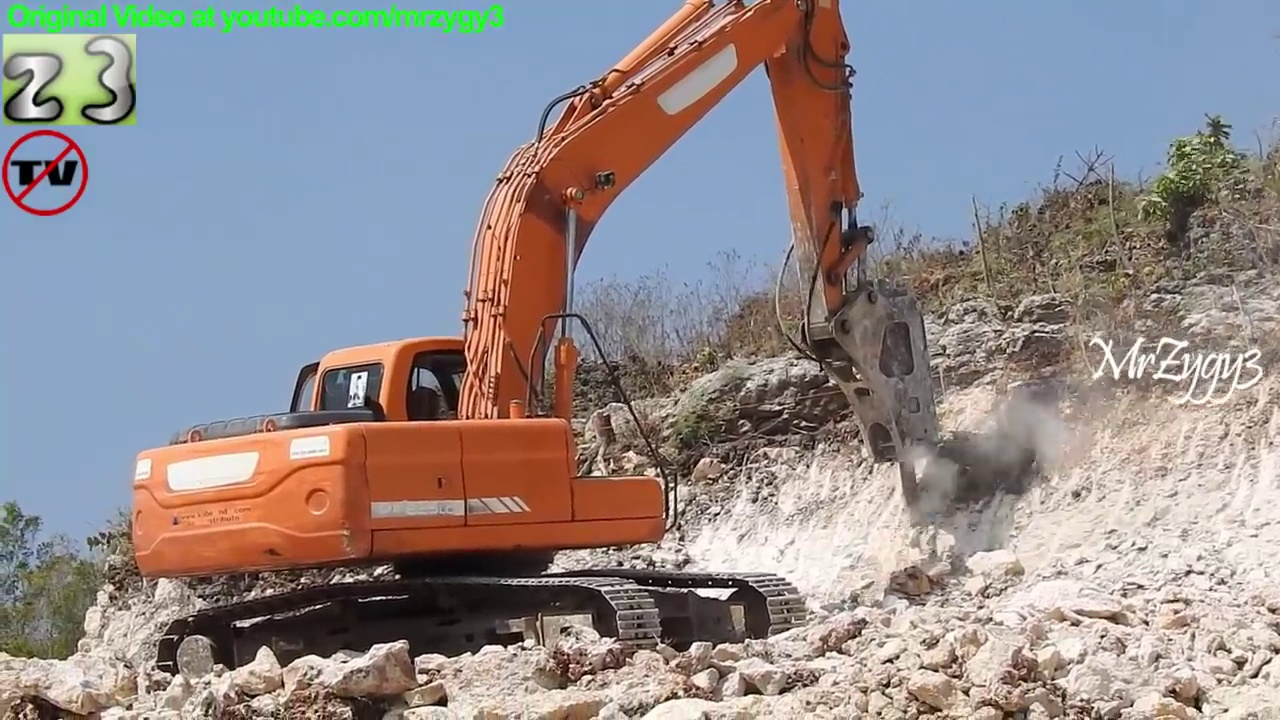excavator breaker: (126, 1, 946, 686)
